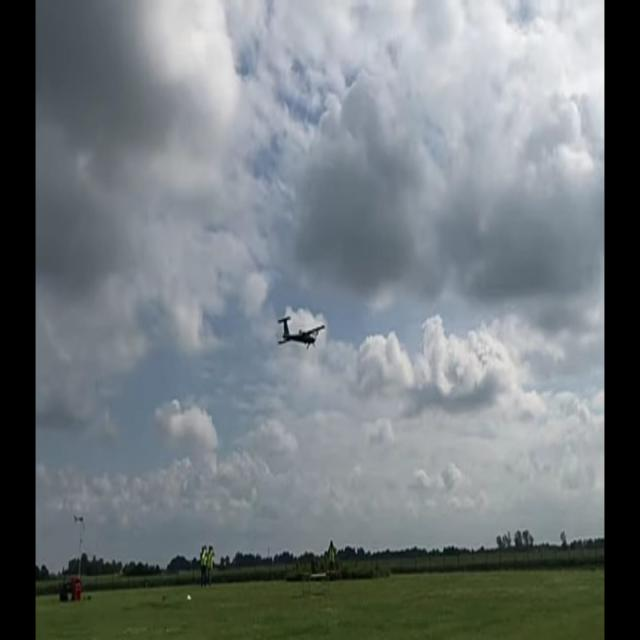iha: (277, 309, 325, 344)
